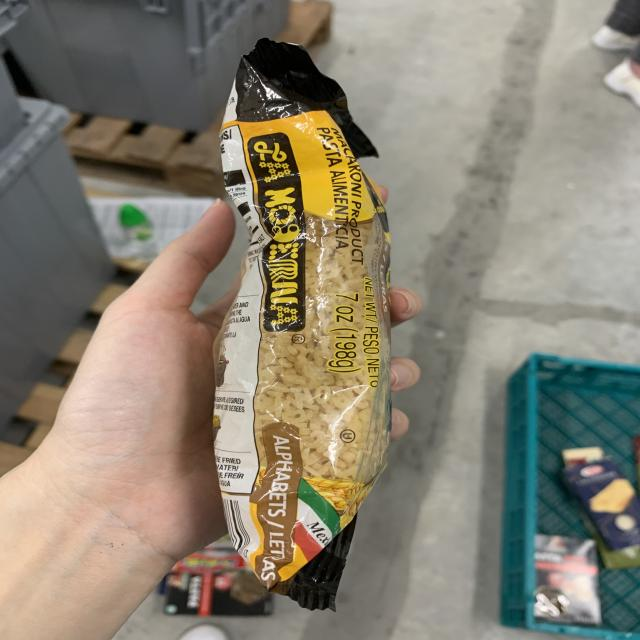object_name: (230, 46, 382, 565)
